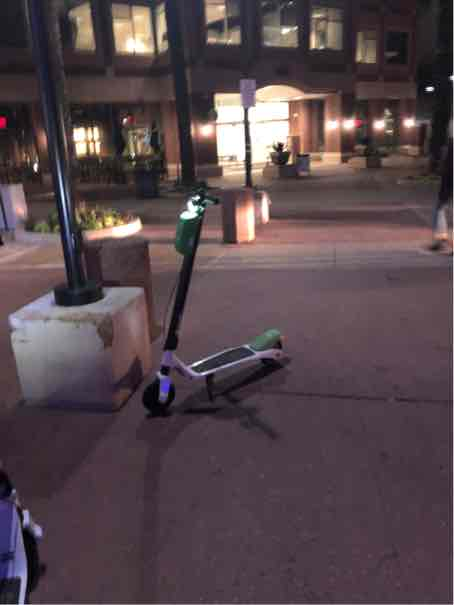scooter: (142, 178, 293, 424)
